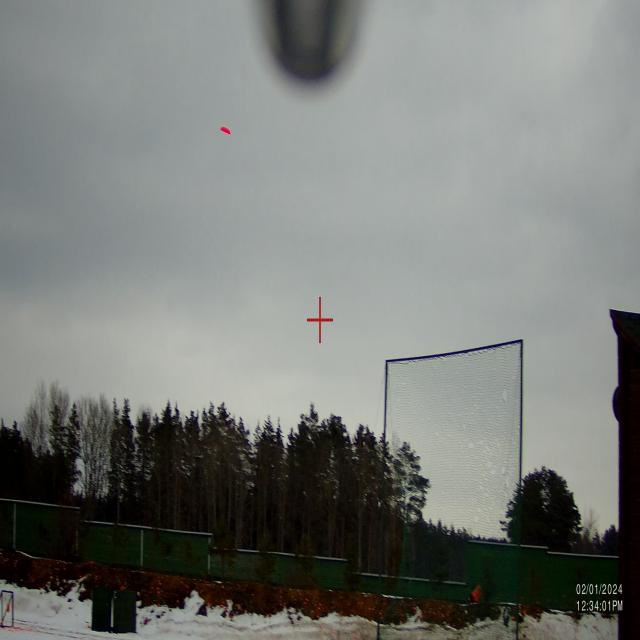entire: (217, 114, 243, 140)
